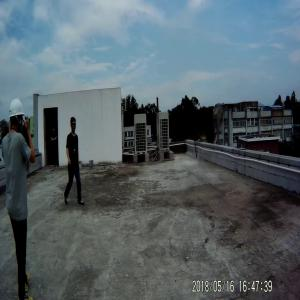none: (70, 115, 78, 134)
white: (9, 96, 26, 137)
